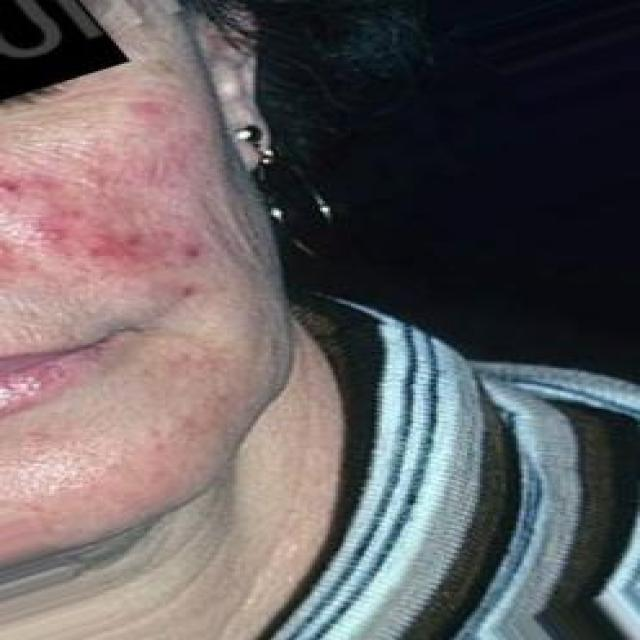Rosacea: (0, 100, 208, 298)
